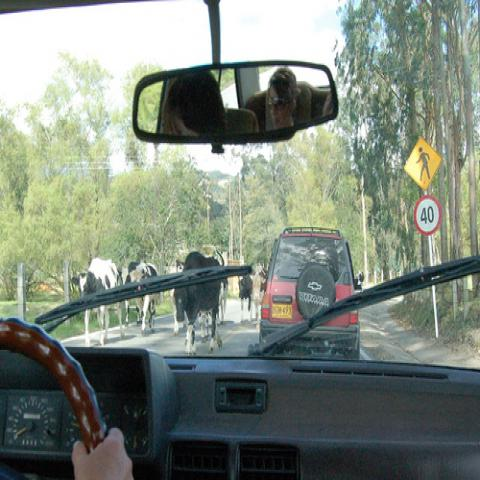car: (0, 0, 479, 473), (260, 227, 364, 357)
